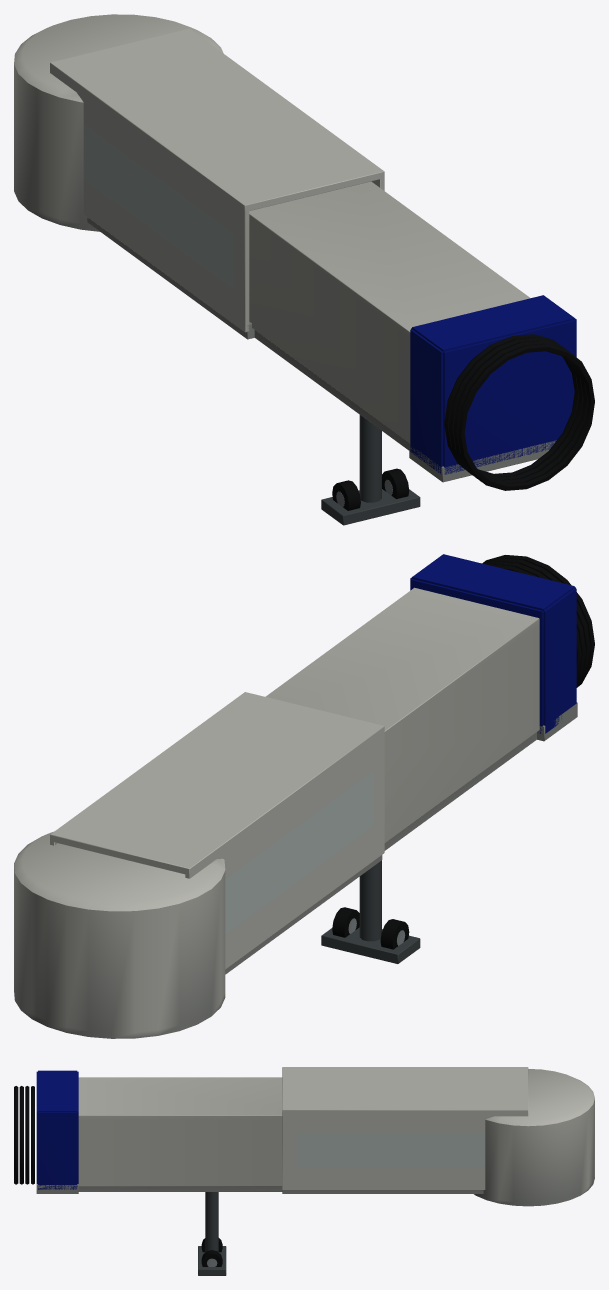
File: ap-jetbridge.glb
3 views of the same model, one above another, from view 1: azimuth 30°, elevation 25°; view 2: azimuth 150°, elevation 25°; view 3: azimuth 270°, elevation 25° (orthographic). The views are drawn at different scales.
Parts seen in each view (by area): view 1: tunnel-a__paint, tunnel-b__paint, cab__paint, rotunda__paint, windows__glass, bellows__rubber, supports__steel, wheel-bogie__rubber; view 2: tunnel-a__paint, tunnel-b__paint, rotunda__paint, cab__paint, windows__glass, supports__steel, bellows__rubber, wheel-bogie__rubber; view 3: tunnel-a__paint, tunnel-b__paint, rotunda__paint, windows__glass, cab__paint, bellows__rubber, supports__steel, wheel-bogie__rubber.
Part boxes in pixels (x1,y1,x2,y2): tunnel-a__paint: (50,28,384,339); tunnel-b__paint: (249,181,530,450); cab__paint: (409,295,576,482); rotunda__paint: (14,14,223,231); windows__glass: (84,125,233,288); bellows__rubber: (444,334,594,490); supports__steel: (321,415,420,525); wheel-bogie__rubber: (332,468,409,510); tunnel-a__paint: (50,692,384,974); tunnel-b__paint: (265,587,539,850); rotunda__paint: (14,831,225,1038); cab__paint: (410,554,577,741); windows__glass: (225,771,373,933); supports__steel: (321,860,420,963); bellows__rubber: (482,555,594,687); wheel-bogie__rubber: (332,907,409,949); tunnel-a__paint: (282,1067,528,1193); tunnel-b__paint: (78,1077,282,1191); rotunda__paint: (474,1069,594,1206); windows__glass: (296,1133,484,1167); cab__paint: (36,1070,78,1193); bellows__rubber: (14,1086,34,1184); supports__steel: (198,1192,226,1275); wheel-bogie__rubber: (201,1238,222,1266).
Size of the model in its own units: 3.8 by 5.52 by 16.54.
